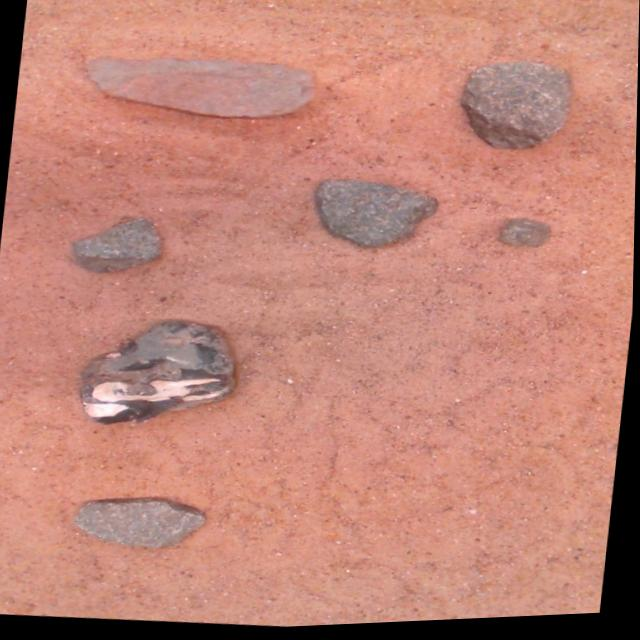rock: (84, 321, 236, 423), (462, 66, 571, 152), (317, 182, 439, 249), (78, 498, 208, 547), (74, 219, 162, 272), (501, 222, 552, 250)
